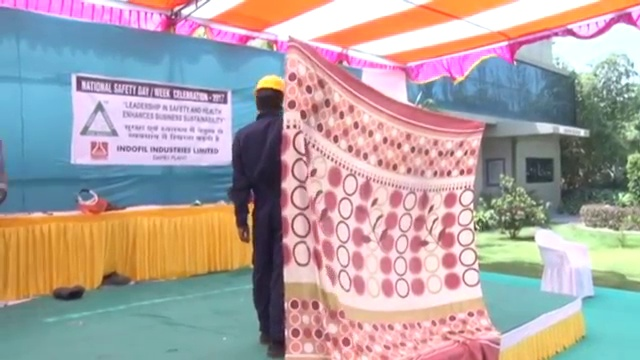helmet: (251, 72, 287, 100)
helmet_on: (251, 73, 287, 120)
person: (230, 71, 286, 356)
